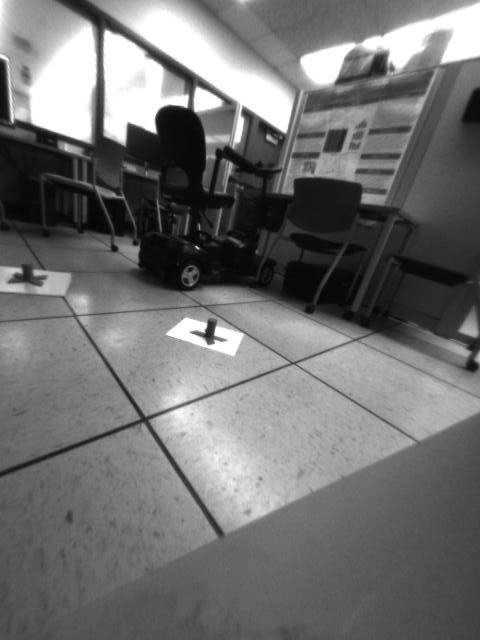X: (4, 261, 49, 288), (189, 315, 228, 345)
